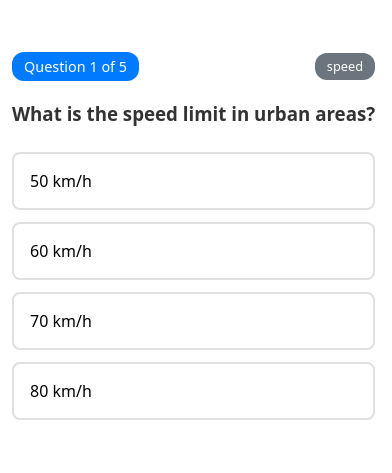
Scenario: Question Component › hides explanation initially and shows it after answer submission
The image size is (392, 473).
Expected: the text "This is the explanation text" is not shown
// Click an answer
Step 1. Click the button "50 km/h" → (61, 181), box [12, 152, 375, 210]
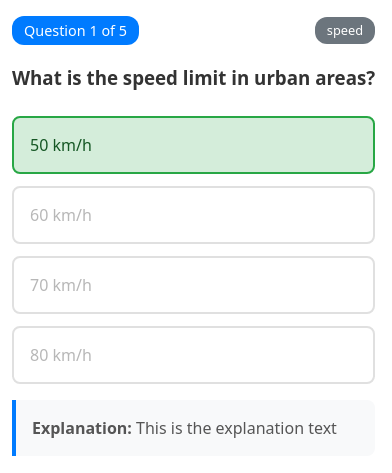
Now the text "This is the explanation text" is shown, box [136, 417, 337, 439]
